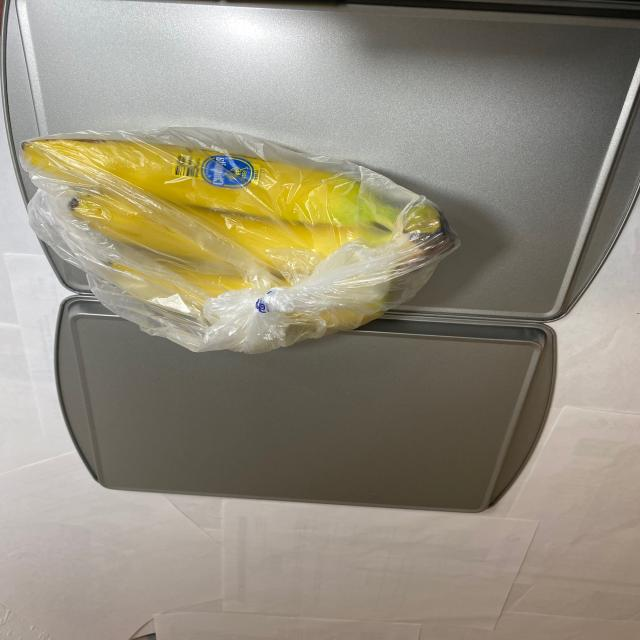banana: (17, 118, 457, 346)
